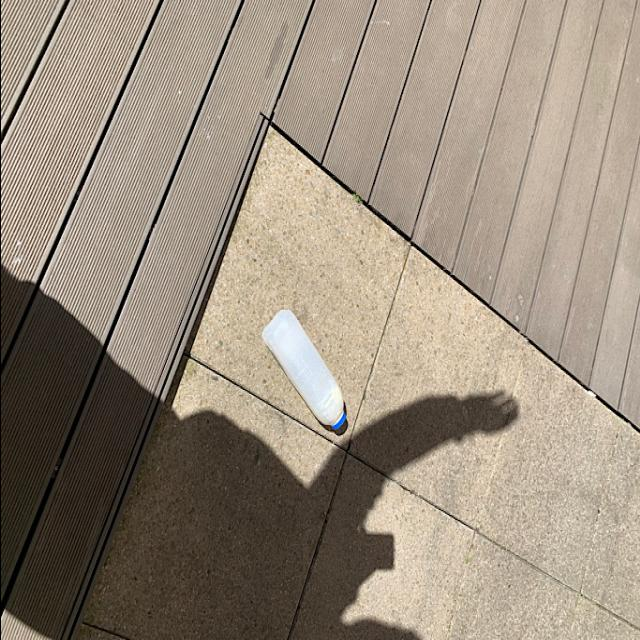litter: (258, 302, 348, 436)
